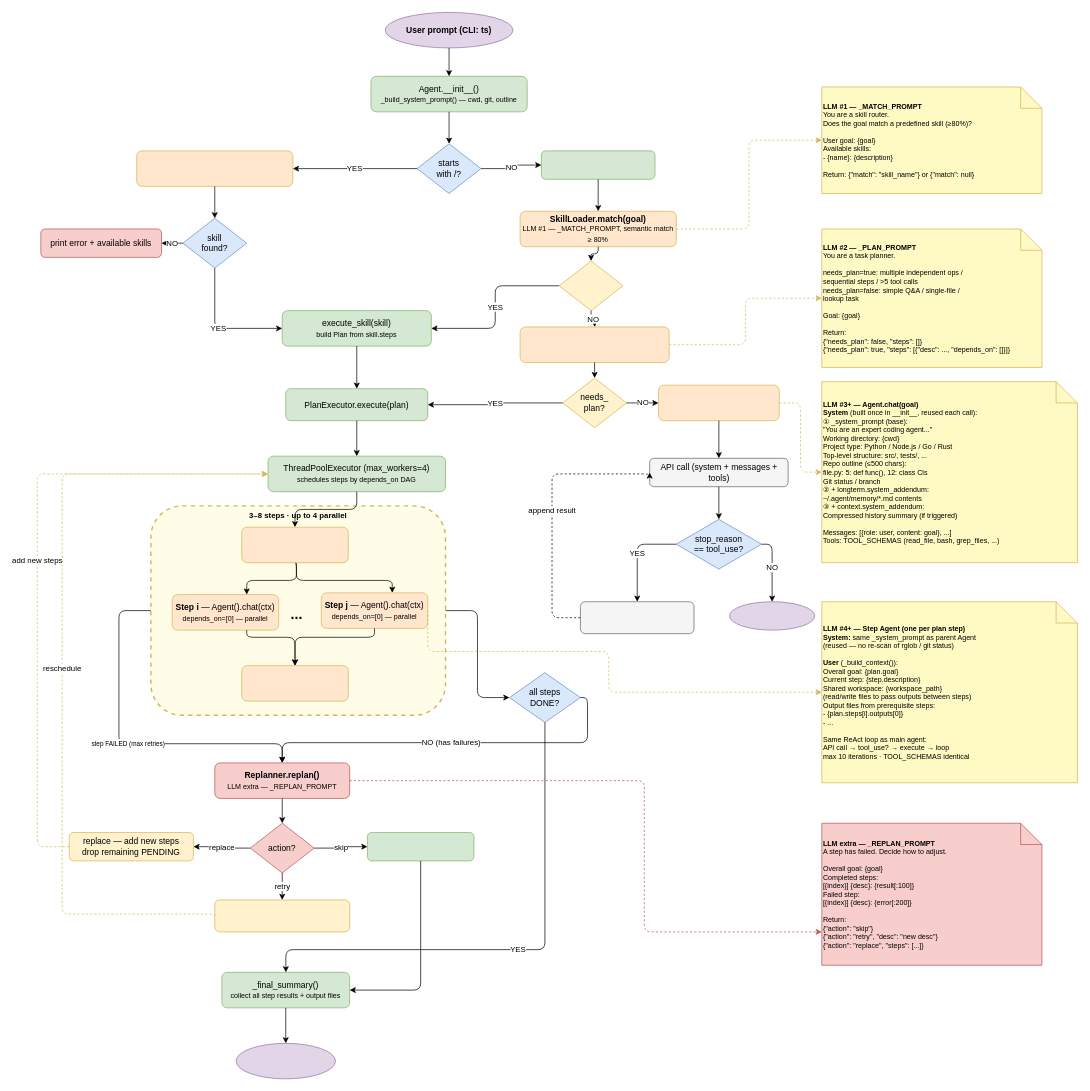
This 1090x1091 diagram has some shape labels left out. The centre of each missing label's shape, as x and y in pixels:
Agent.chat(goal) LLM #3+ — ReAct loop: pixel 718 402
agent.execute(goal): pixel 598 164
Execute tool TOOL_MAP[name](**input): pixel 637 617
Planner.decompose(goal) LLM #2 — _PLAN_PROMPT: pixel 594 344
retry — new step.desc reset status = PENDING: pixel 282 915
Return result: pixel 285 1061
Return text: pixel 772 615
skill matched?: pixel 590 285
SkillLoader.find(name) direct dict lookup — NO LLM: pixel 214 168
skip — mark DONE: pixel 420 846
Step 0 — Agent().chat(ctx) no deps — runs immediately: pixel 294 544
Step N — Agent().chat(ctx) depends_on=[i,j,...] — last: pixel 294 683
